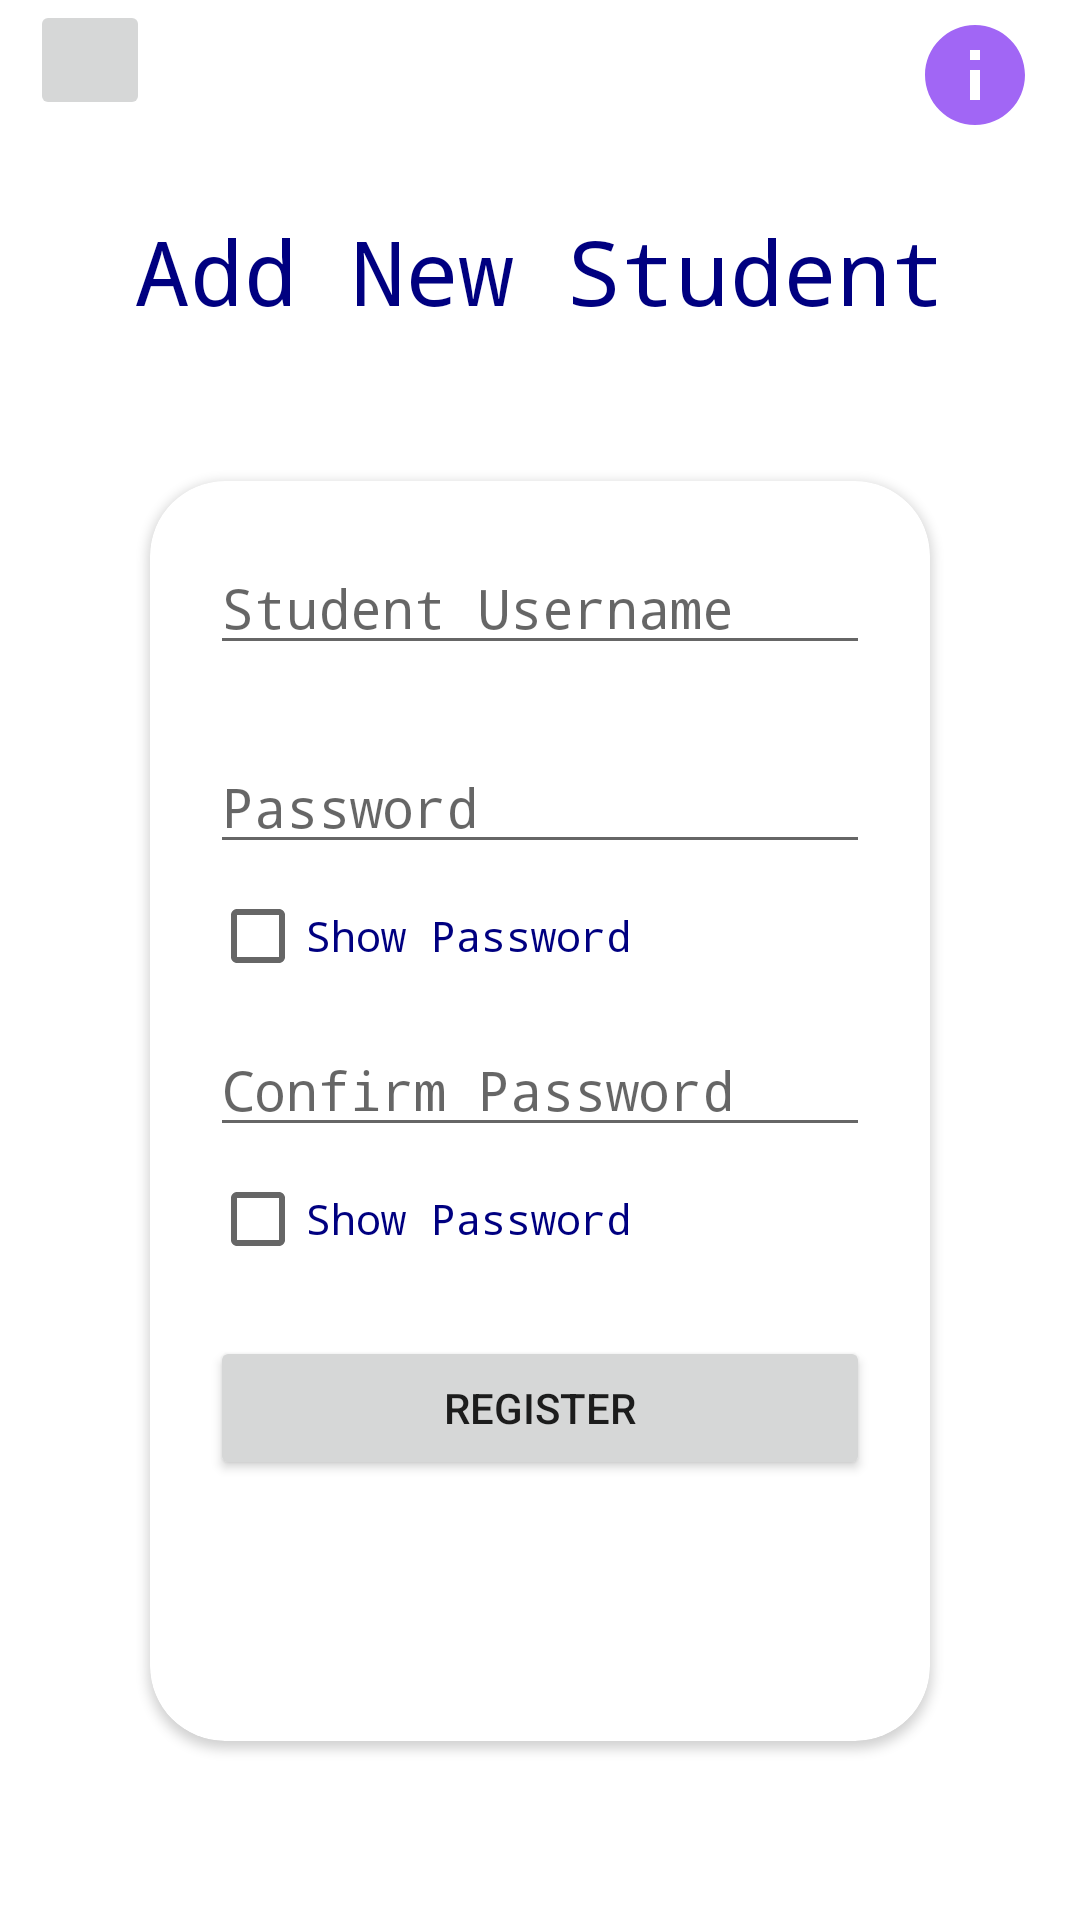

Icons on this 1080×1920 Android screen, each with its box as (x1, y1, x2, y2):
info: (925, 25, 1025, 125)
